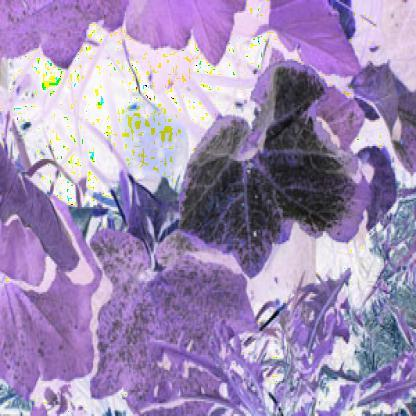Squash Powdery mildew leaf: (183, 59, 379, 266)
